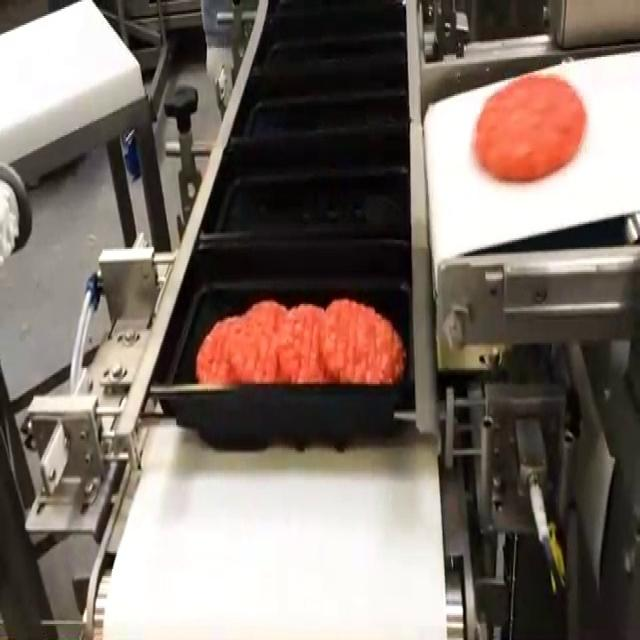4-hamburguer: (196, 299, 404, 382)
